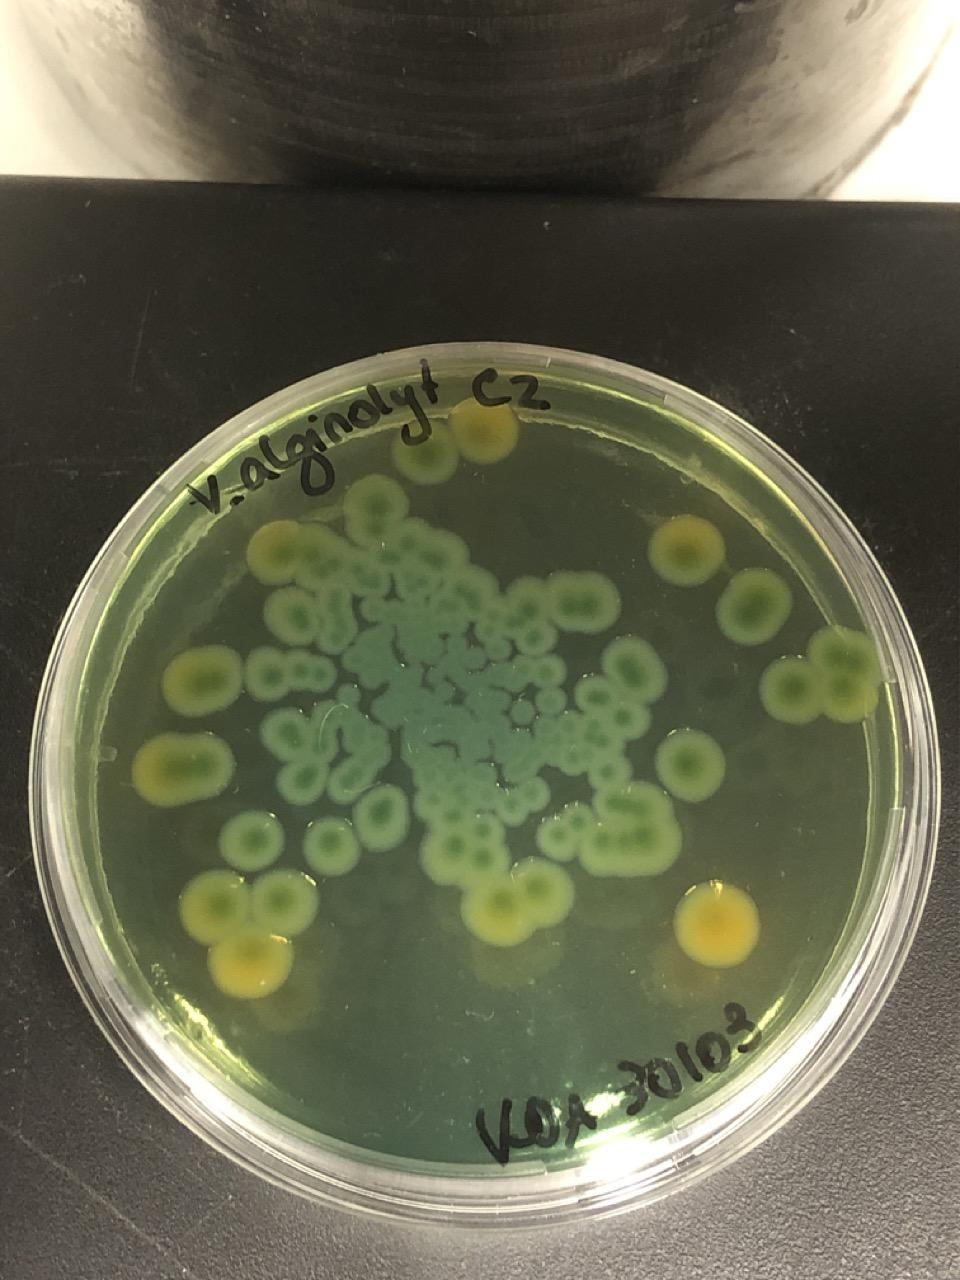valgino: (179, 870, 318, 999), (674, 882, 758, 966), (654, 730, 726, 801), (647, 518, 723, 584)
